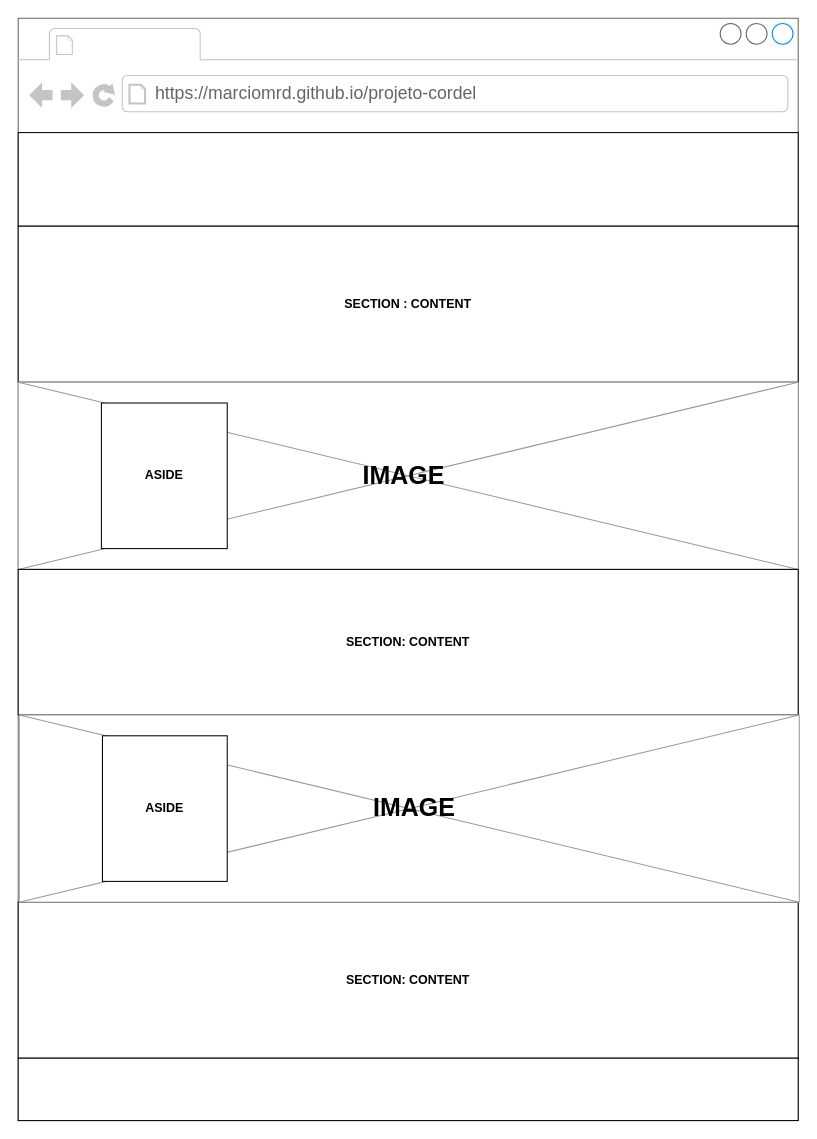
Some shapes in this 817 by 1139 pixel diagram are drawn without their labels. The shapes that lost their labels are listed below. From the top down, each one's centre as x and y in pixels, then its label:
At [137,44]: "Cordel".
At [407,179]: "HEADER".
At [407,1089]: "FOOTER".
